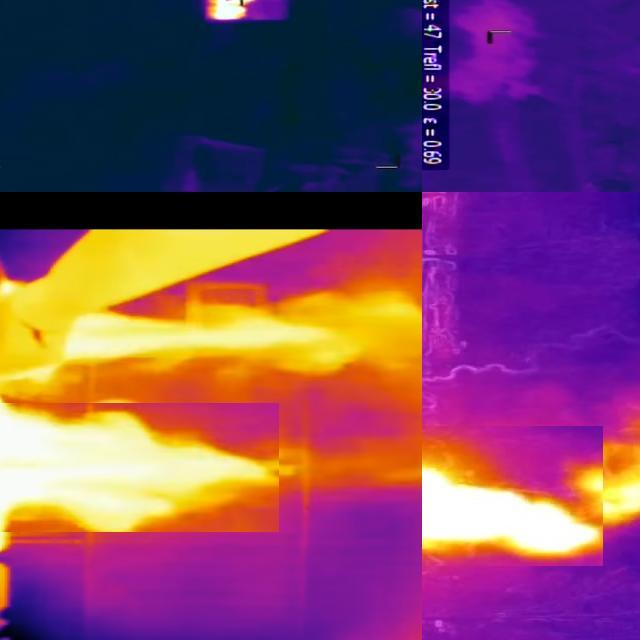fire: (423, 428, 601, 567), (4, 404, 147, 531), (205, 1, 287, 21)
